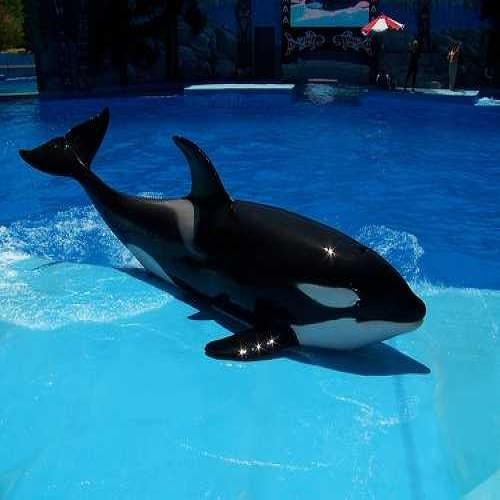killer_whale-endangered: (41, 103, 433, 394)
